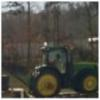tractors: (29, 44, 99, 97)
